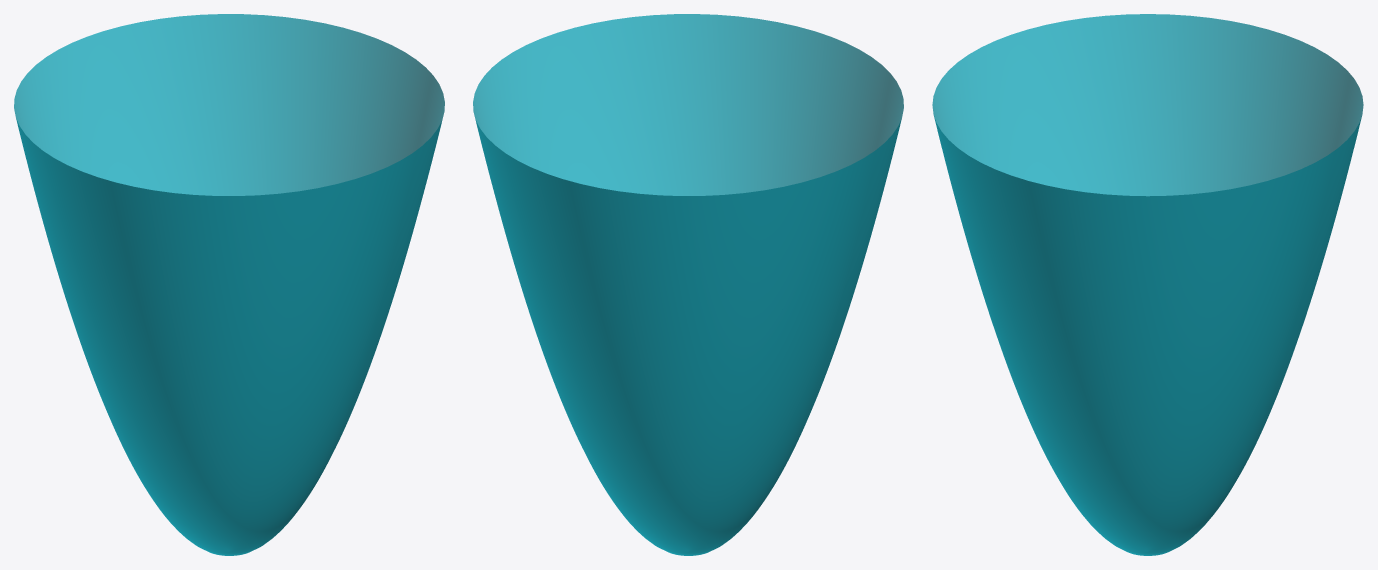
File: solid-of-revolution-sqrtx.glb
3 renders of one model, left to right at view 1: azimuth 30°, elevation 25°; view 2: azimuth 150°, elevation 25°; view 3: azimuth 270°, elevation 25°, orthographic.
Bounding box in the file's own units: 1.4 × 1.6 × 1.4.
